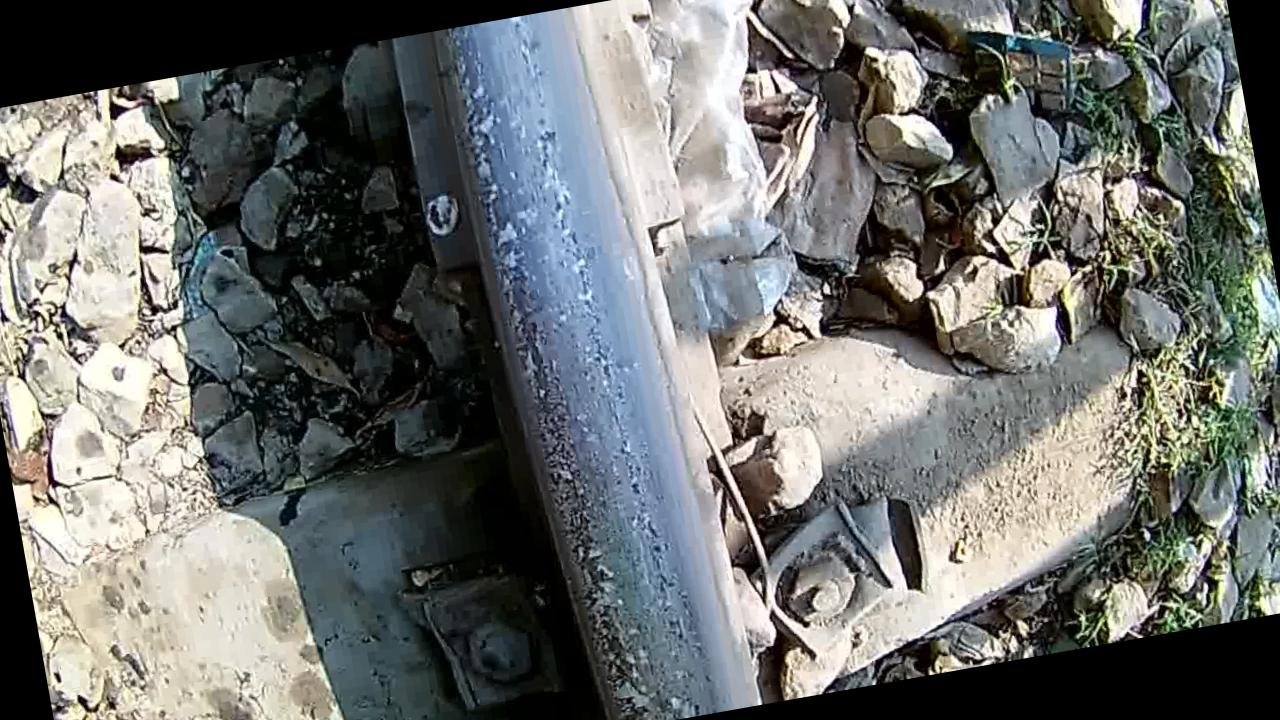clip_missing: (438, 6, 747, 720)
